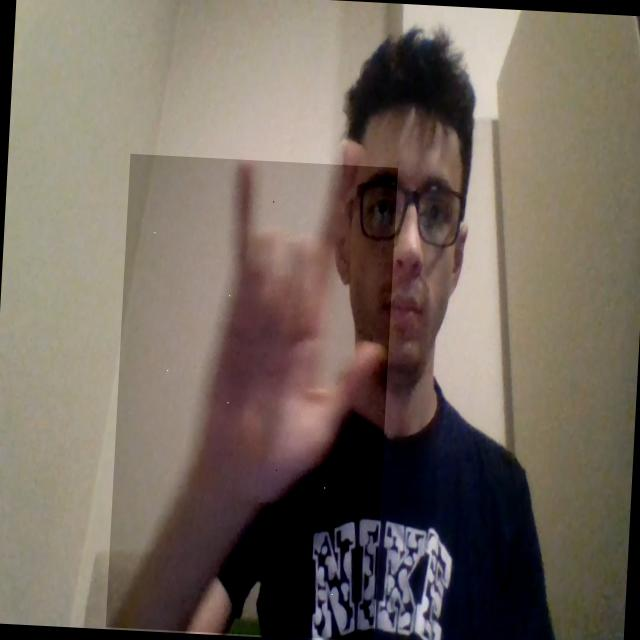iloveyou: (106, 154, 398, 640)
